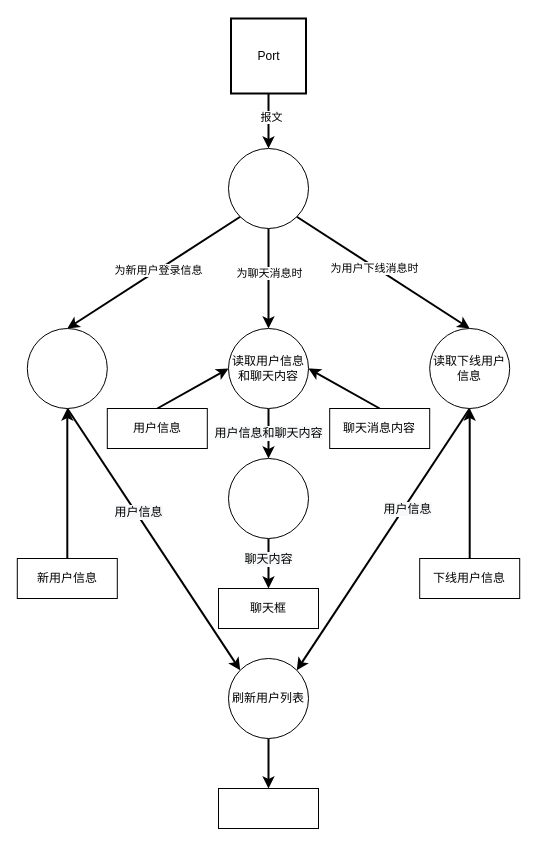
The diagram is 538 pixels wide and 846 high, and some of its shapes have lost their labels. Each missing label, with the box of its shape:
刷新聊天框内容: (228, 458, 308, 538)
接收输入: (228, 148, 308, 228)
用户列表: (218, 788, 318, 828)
读取新用户信息: (26, 328, 107, 408)
